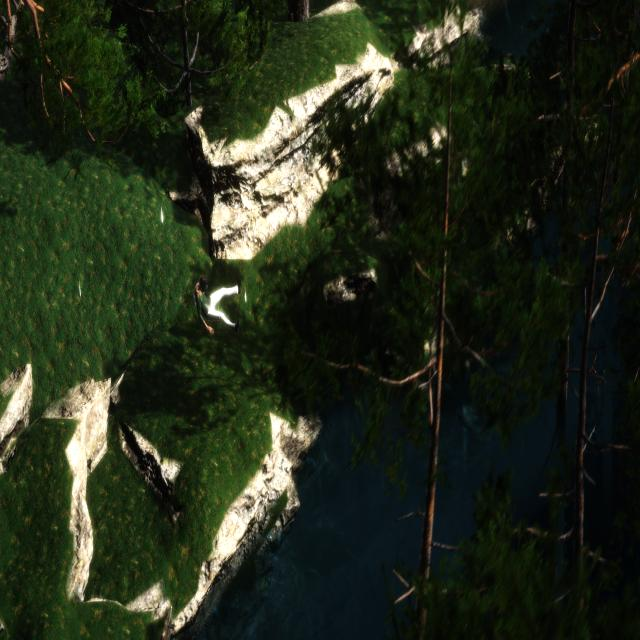Human: (194, 276, 250, 342)
